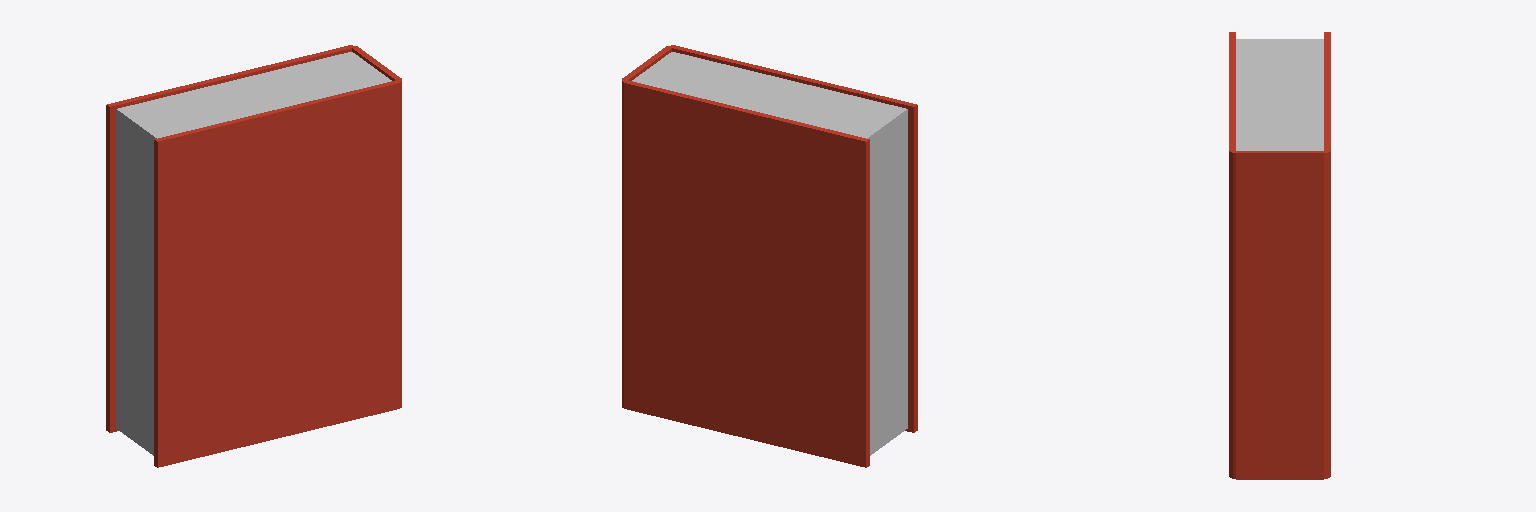
3 renders of one model, left to right at view 1: azimuth 30°, elevation 25°; view 2: azimuth 150°, elevation 25°; view 3: azimuth 270°, elevation 25°, orthographic.
Parts seen in each view (by area): view 1: Cube, Cube.001; view 2: Cube, Cube.001; view 3: Cube, Cube.001.
Boxes of the visible parts, <box> form: Cube: <box>106,45,401,467</box>; Cube.001: <box>116,52,391,455</box>; Cube: <box>622,45,917,467</box>; Cube.001: <box>632,52,907,455</box>; Cube: <box>1229,32,1330,479</box>; Cube.001: <box>1236,39,1323,150</box>.
Bounding box in the file's own units: 1.1 × 1.39 × 0.3935.
2 materials, 1 textured.